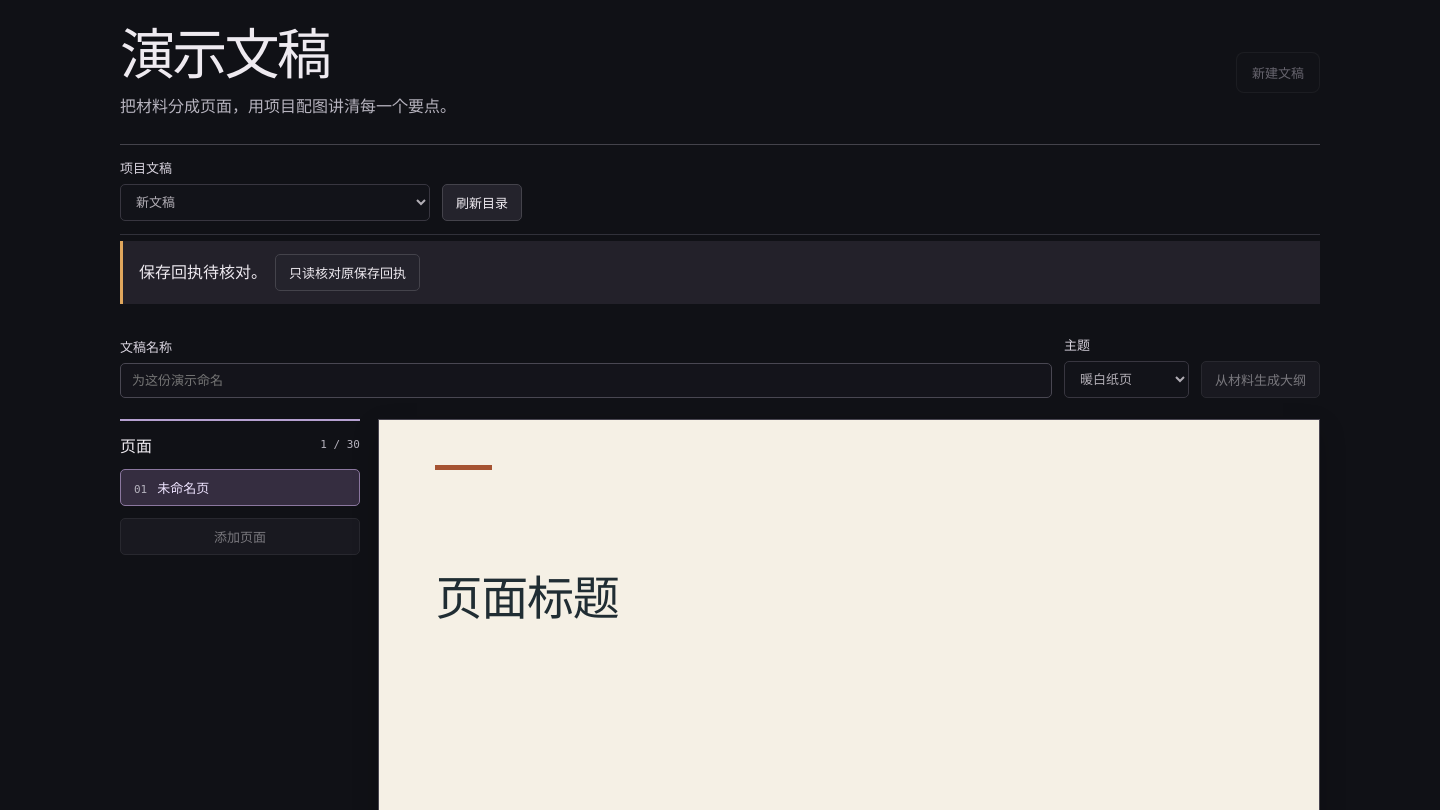
Scenario: rejects a mismatched document receipt and retains the original ticket
This screenshot has width=1440, height=810.
Click the button "只读核对原保存回执" at (348, 272), box [275,254,420,291]
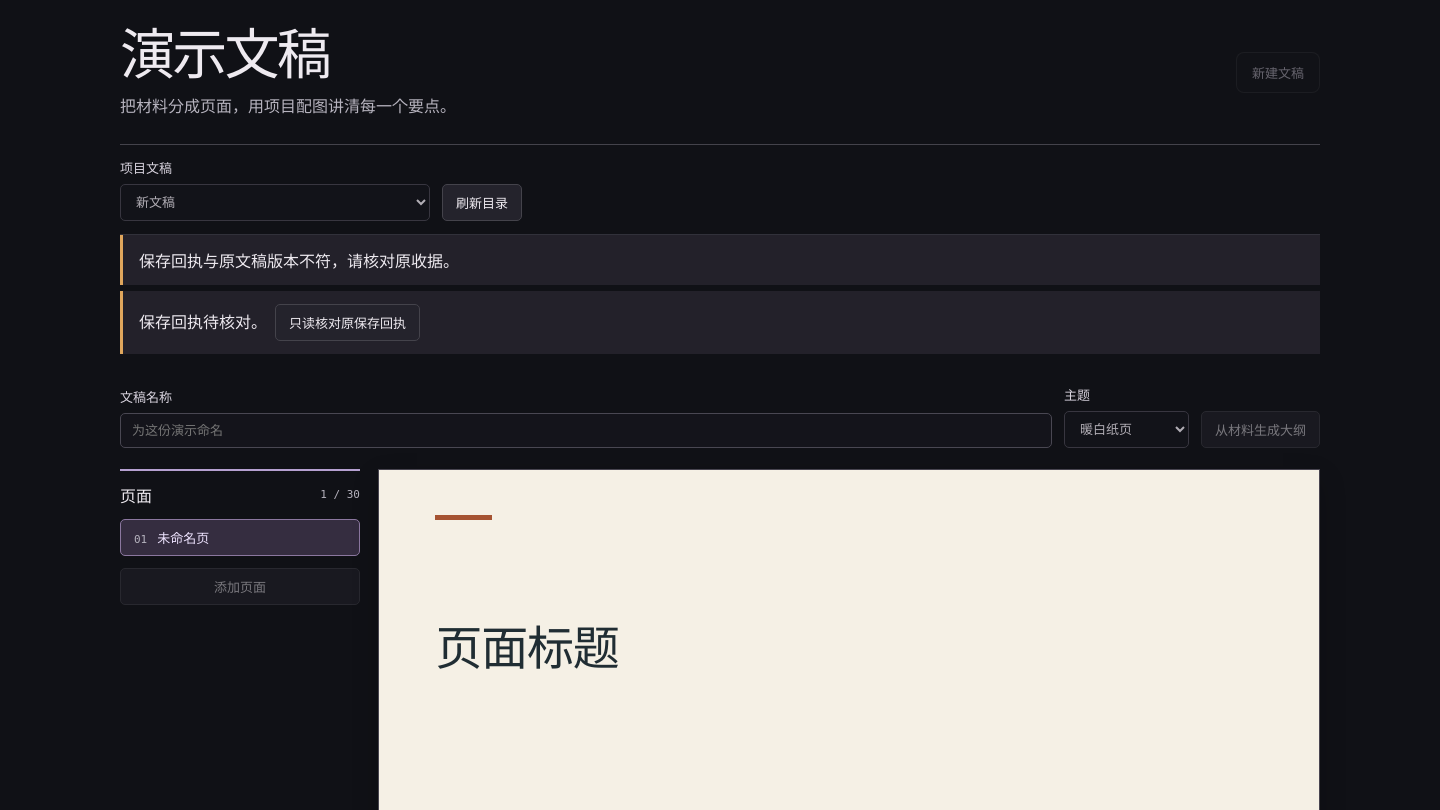
expect the text "回执与原文稿版本不符" is shown: met, box [139,253,459,270]
